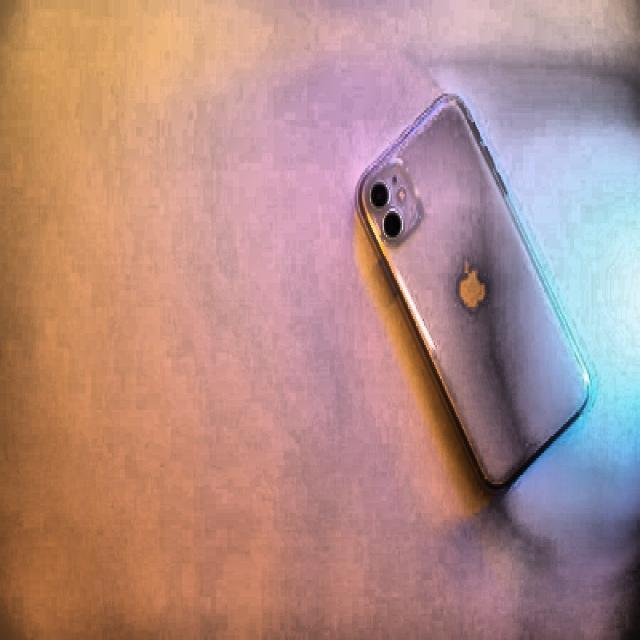Phone: (356, 90, 594, 493)
